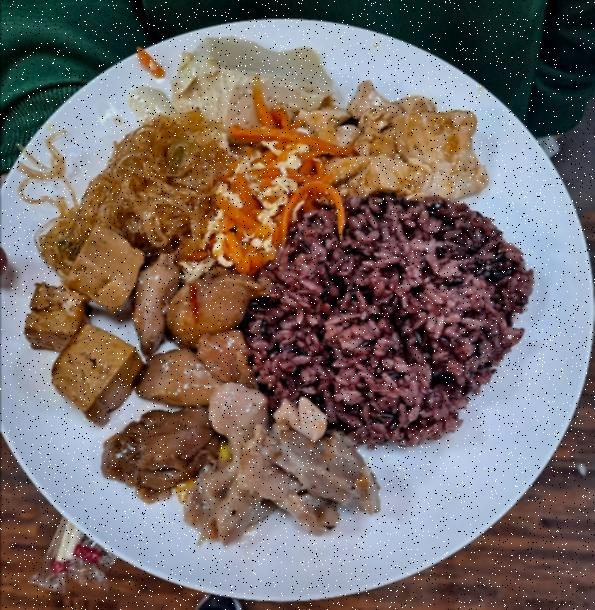plate: (1, 14, 585, 606)
purple rice: (255, 204, 528, 430)
side dish: (174, 395, 382, 554), (38, 118, 224, 260), (25, 230, 145, 416), (304, 96, 482, 205), (199, 117, 331, 263), (179, 26, 333, 132)
three cup chicken: (127, 266, 252, 482)
